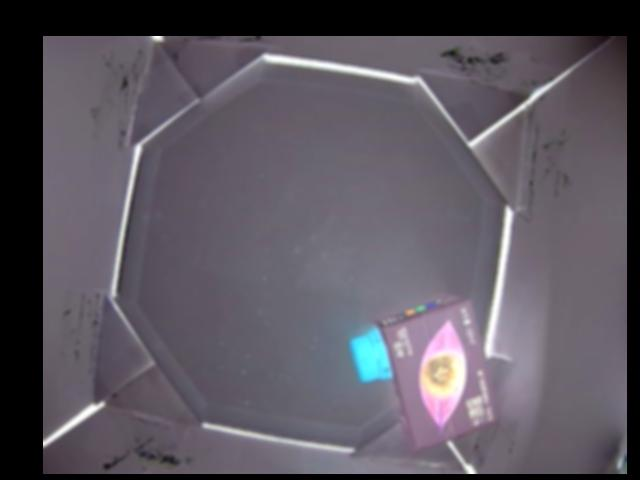Bottle: (351, 293, 498, 453)
